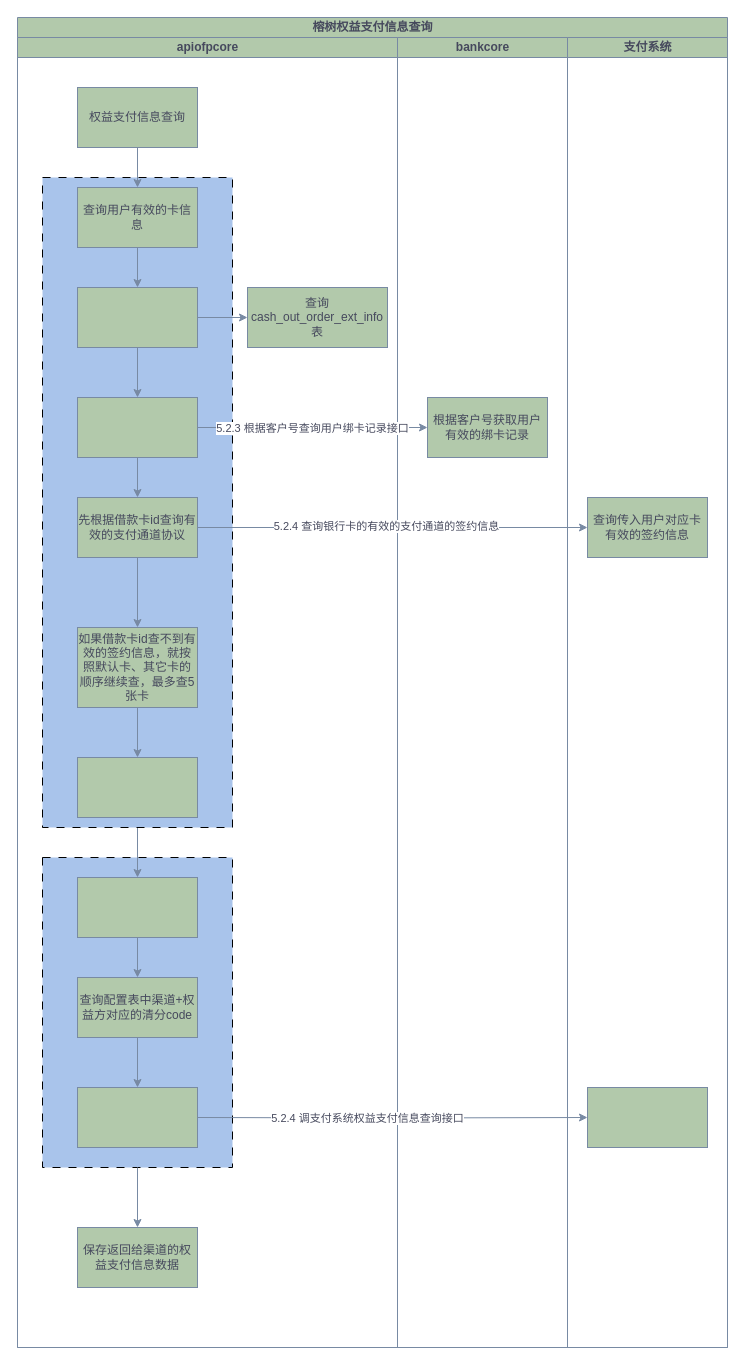
Some shapes in this 745 by 1365 pixel diagram are drawn without their labels. The centre of each missing label's shape, as x and y in pixels:
"先查询借款申请时存的用户的下单卡id记录" goes at point (137, 317).
"如果最终无法返回有效的卡信息，发出告警" goes at point (137, 787).
"权益支付信息数据查询接口" goes at point (647, 1117).
"查询分账信息" goes at point (137, 907).
"请求查询客户号下绑卡的银行卡数据" goes at point (137, 427).
"请求查询支付分账信息" goes at point (137, 1117).
